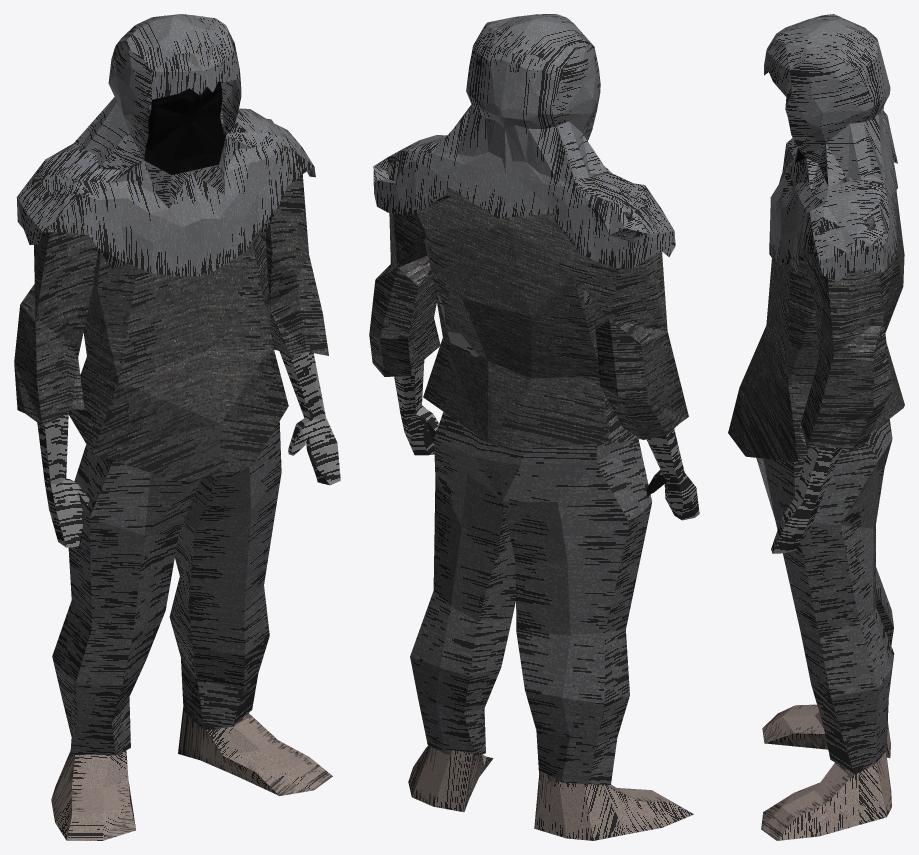
The model's file is player.glb.
The picture shows the model from 3 angles, left to right: view 1: azimuth 30°, elevation 25°; view 2: azimuth 150°, elevation 25°; view 3: azimuth 270°, elevation 25°; orthographic projection. The views are drawn at different scales.
Parts seen in each view (by area): view 1: skirt thingy, Pants, hood outside, Shoes, Body, hood inside; view 2: Pants, skirt thingy, hood outside, Shoes, Body; view 3: hood outside, skirt thingy, Pants, Shoes, Body.
Part boxes in pixels (box(x1,y1,x2,y2)): skirt thingy: box(14, 111, 328, 481); Pants: box(52, 421, 281, 755); hood outside: box(16, 14, 315, 276); Shoes: box(51, 708, 332, 840); Body: box(37, 352, 340, 547); hood inside: box(144, 81, 226, 174); Pants: box(410, 412, 651, 784); skirt thingy: box(369, 153, 688, 449); hood outside: box(373, 14, 675, 268); Shoes: box(408, 745, 693, 840); Body: box(394, 238, 699, 520); hood outside: box(764, 14, 898, 281); skirt thingy: box(728, 155, 904, 461); Pants: box(756, 419, 894, 774); Shoes: box(761, 704, 891, 840); Body: box(771, 447, 842, 553).
Bounding box in the file's own units: 1.95 × 4.89 × 1.03.
6 materials, 5 textured.
